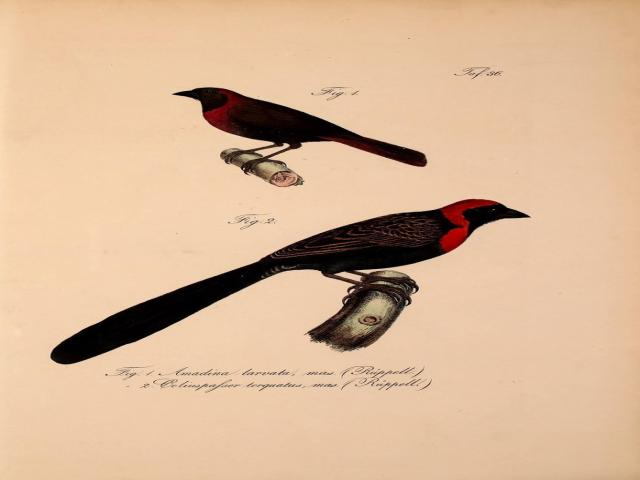Bird: (43, 200, 539, 362), (160, 81, 434, 173)
